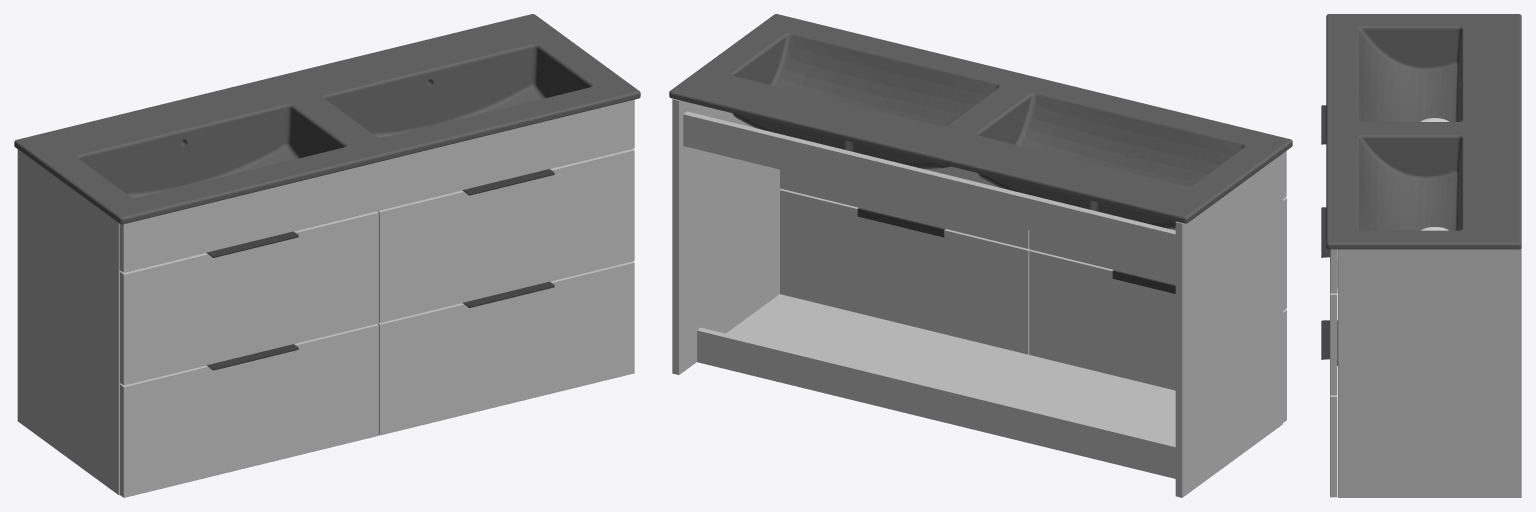
Rendered from AEC_47542.glb.
3 renders of one model, left to right at view 1: azimuth 30°, elevation 25°; view 2: azimuth 150°, elevation 25°; view 3: azimuth 270°, elevation 25°, orthographic. The views are drawn at different scales.
Parts seen in each view (by area): view 1: 0; view 2: 0; view 3: 0.
Part boxes in pixels (bbox=[...]): 0: bbox=[14, 14, 640, 497]; 0: bbox=[669, 14, 1292, 497]; 0: bbox=[1321, 14, 1521, 497].
Size of the model in its own units: 1.2 by 0.6221 by 0.4414.
Materials: 1 (1 with a texture image).
